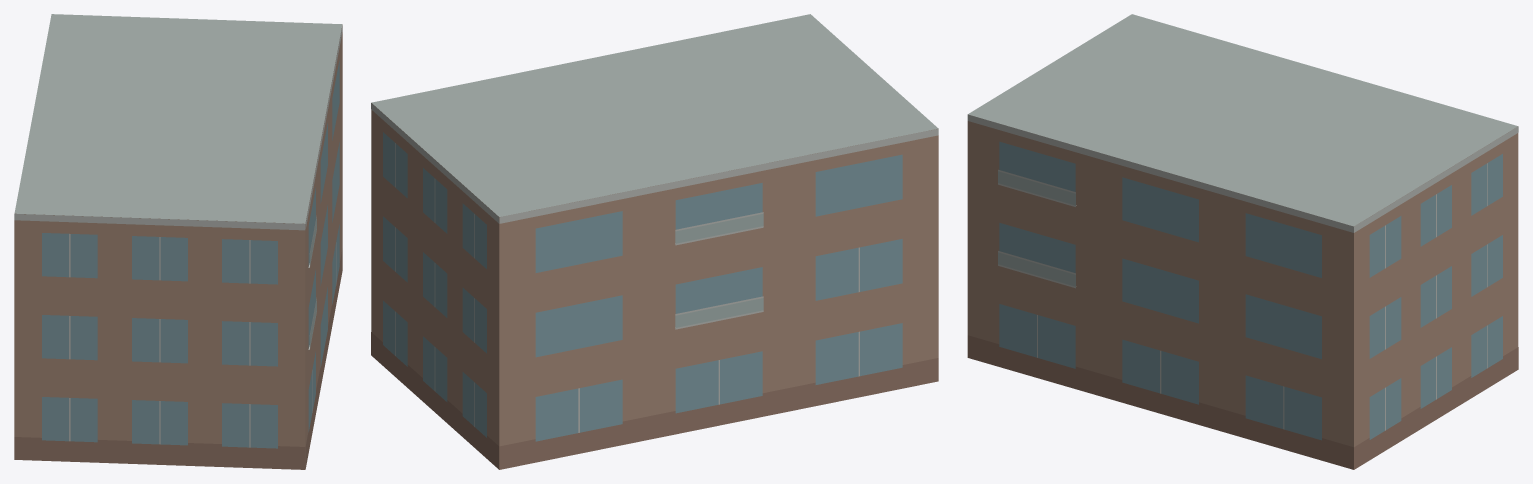
Rendered from survey-upis-32707486.glb.
3 views of the same model, side by side, from view 1: azimuth 30°, elevation 25°; view 2: azimuth 150°, elevation 25°; view 3: azimuth 270°, elevation 25° (orthographic). The views are drawn at different scales.
Parts seen in each view (by area): view 1: survey-upis-32707486.tmp; view 2: survey-upis-32707486.tmp; view 3: survey-upis-32707486.tmp.
Boxes of the visible parts, x1,y1,x2,y2 form: survey-upis-32707486.tmp: [14, 14, 342, 469]; survey-upis-32707486.tmp: [371, 14, 938, 469]; survey-upis-32707486.tmp: [967, 14, 1518, 469].
Size of the model in its own units: 17.14 by 9.15 by 18.78.
